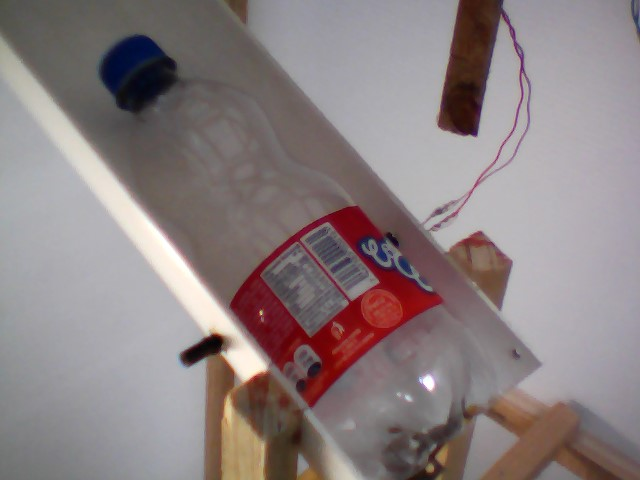plastico: (95, 29, 504, 480)
